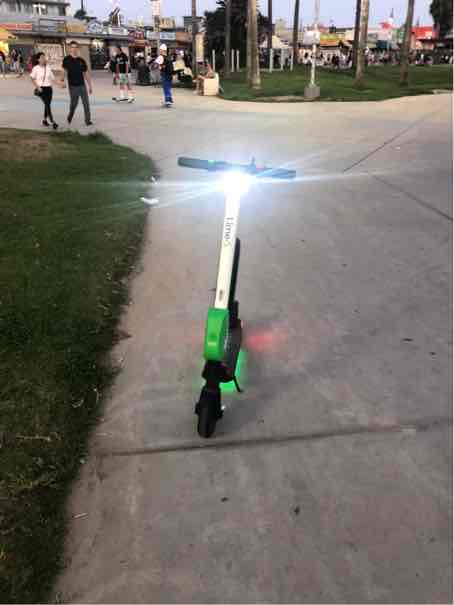scooter: (176, 146, 302, 459)
